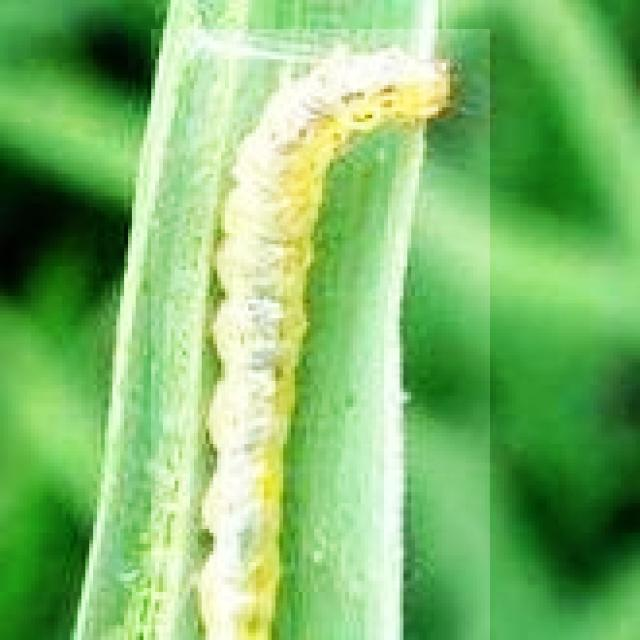leaf-folder: (151, 29, 490, 640)
